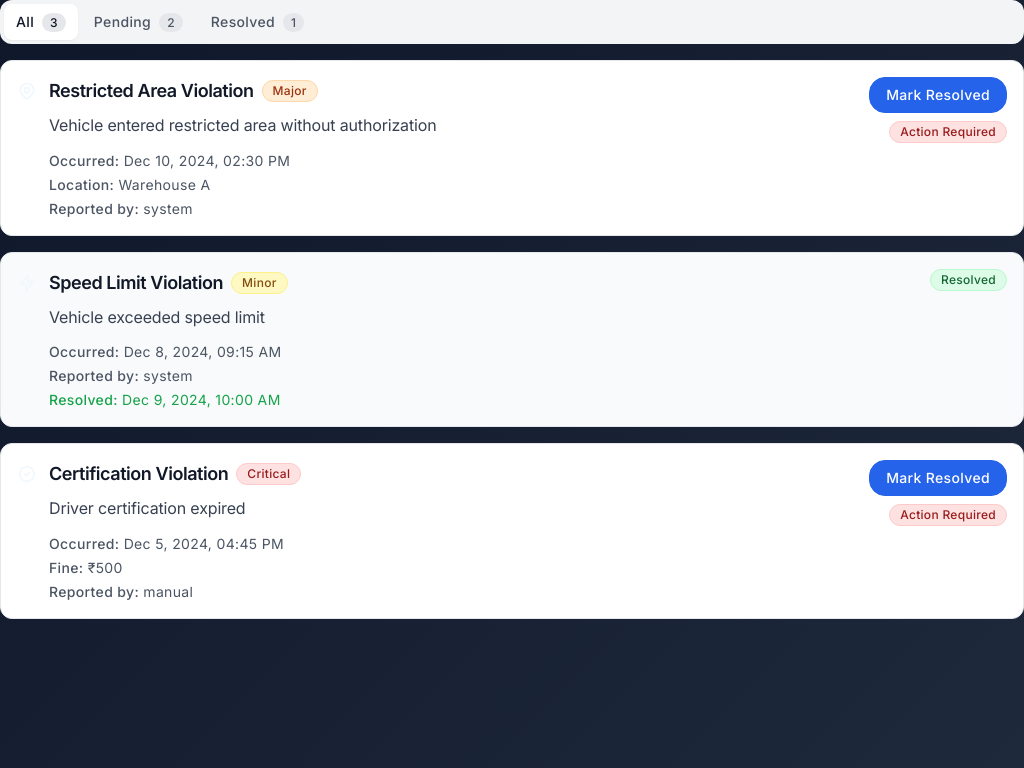
Scenario: ViolationsList › filters violations by resolved status
// Click on resolved filter
Click the button named "resolved 1".
click(258, 22)  # box [199, 4, 316, 40]
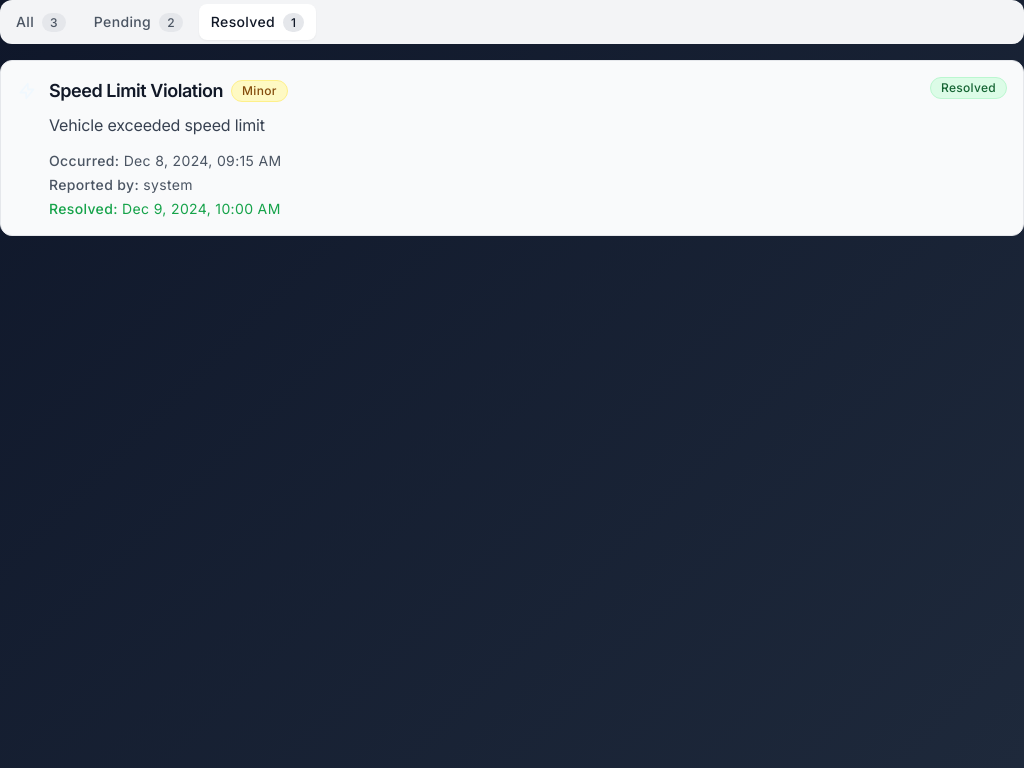
Expected: the heading "Speed Limit Violation" is shown, [49, 77, 223, 105]
Result: the heading "Restricted Area Violation" is gone
Result: the heading "Certification Violation" is gone
